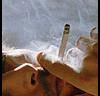Cigarette: (56, 23, 70, 59)
Smoke: (18, 5, 87, 71)
